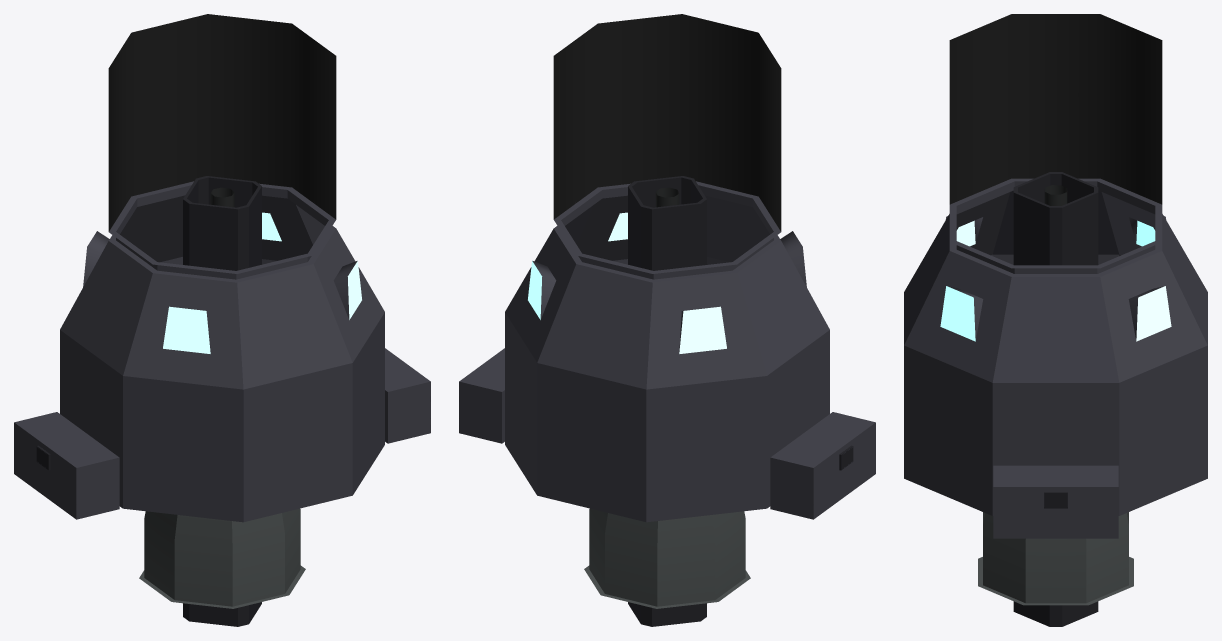
The model's file is PlantaMineraFinal.fbx.
3 renders of one model, left to right at view 1: azimuth 30°, elevation 25°; view 2: azimuth 150°, elevation 25°; view 3: azimuth 270°, elevation 25°, orthographic.
Parts seen in each view (by area): view 1: Muro, Muro.002, Caida, MurallaSpawn, Extractor, Muro.001, KillZone; view 2: Muro, Muro.002, Caida, MurallaSpawn, Extractor, Muro.001, KillZone; view 3: Muro, Muro.002, Caida, MurallaSpawn, Extractor, Muro.001, KillZone, Central extractor.
Part boxes in pixels (bbox=[...]): Muro: bbox=[60, 195, 384, 522]; Muro.002: bbox=[108, 14, 336, 231]; Caida: bbox=[144, 508, 300, 606]; MurallaSpawn: bbox=[14, 348, 430, 519]; Extractor: bbox=[183, 176, 261, 626]; Muro.001: bbox=[109, 181, 335, 282]; KillZone: bbox=[139, 565, 305, 608]; Muro: bbox=[505, 195, 829, 522]; Muro.002: bbox=[553, 14, 781, 231]; Caida: bbox=[589, 508, 745, 606]; MurallaSpawn: bbox=[459, 348, 875, 519]; Extractor: bbox=[628, 176, 706, 626]; Muro.001: bbox=[554, 181, 780, 282]; KillZone: bbox=[584, 565, 750, 608]; Muro: bbox=[904, 190, 1207, 515]; Muro.002: bbox=[949, 14, 1162, 204]; Caida: bbox=[983, 512, 1128, 603]; MurallaSpawn: bbox=[992, 464, 1119, 538]; Extractor: bbox=[1013, 172, 1098, 626]; Muro.001: bbox=[949, 178, 1162, 276]; KillZone: bbox=[978, 557, 1133, 605]; Central extractor: bbox=[1044, 185, 1067, 205].
Size of the model in its own units: 7207 by 10500 by 5253.
4 materials, 4 textured.
